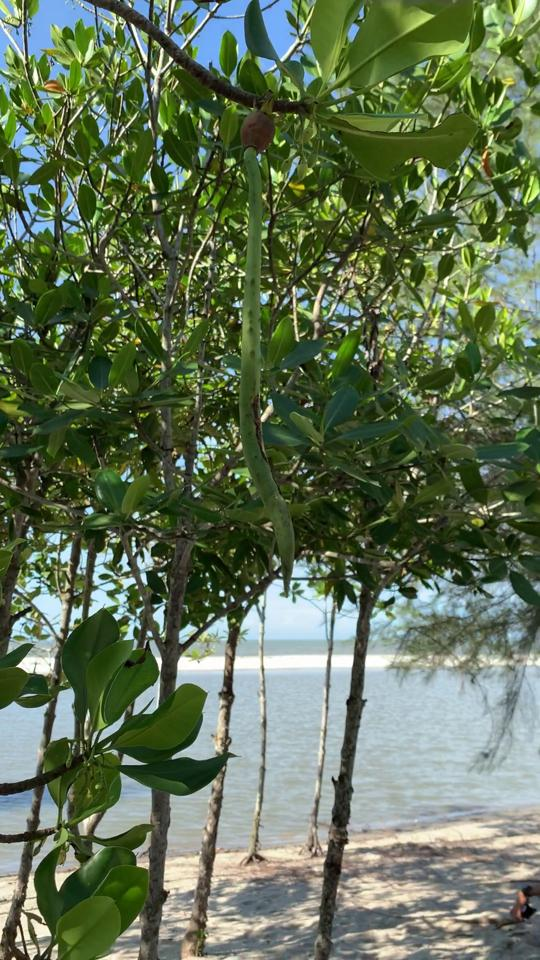setengah matang: (227, 95, 311, 604)
